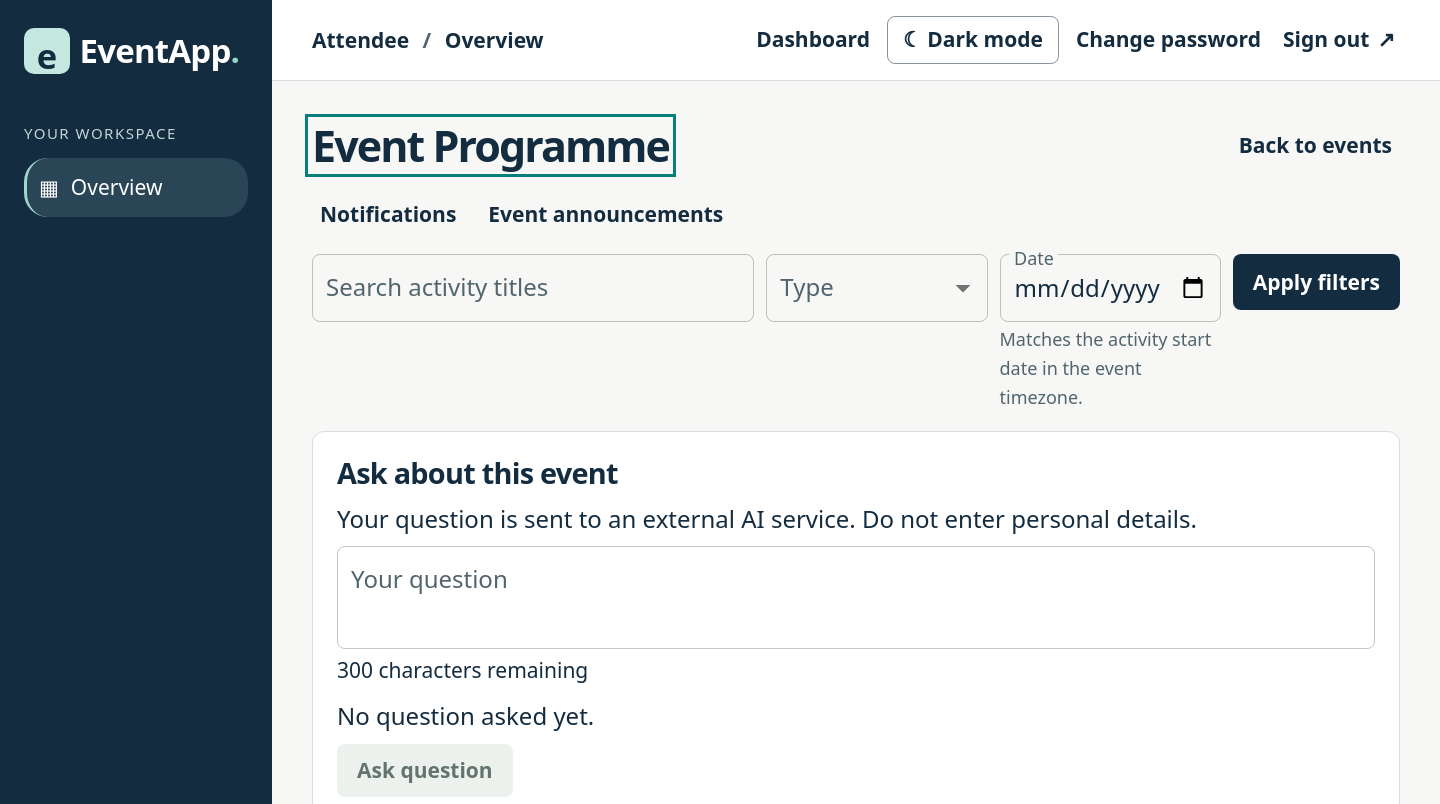
Scenario: F03-US02 attendee event question UI (AC01-AC06) › F03Q-UI09 an unknown result (conflicting_evidence) gives its reason, no facts, no summary and a way to browse
Check: the heading "Event Programme" is shown, box x1=312 y1=121 x2=669 y2=170
Click the text box labelled "Your question".
click(856, 598)  # box x1=351 y1=563 x2=1361 y2=633
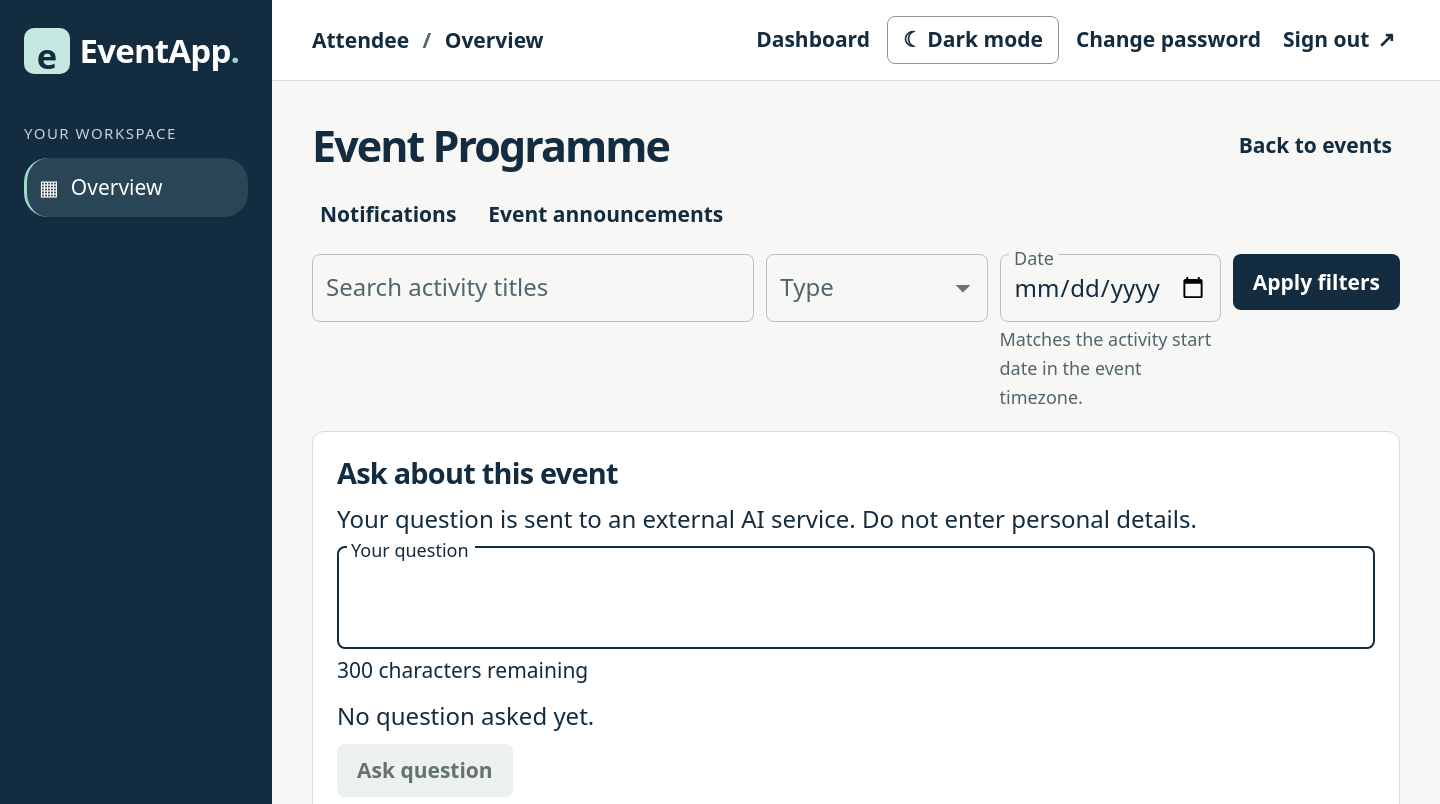
Type keys "When does the evening workshop start and what does it cost?"
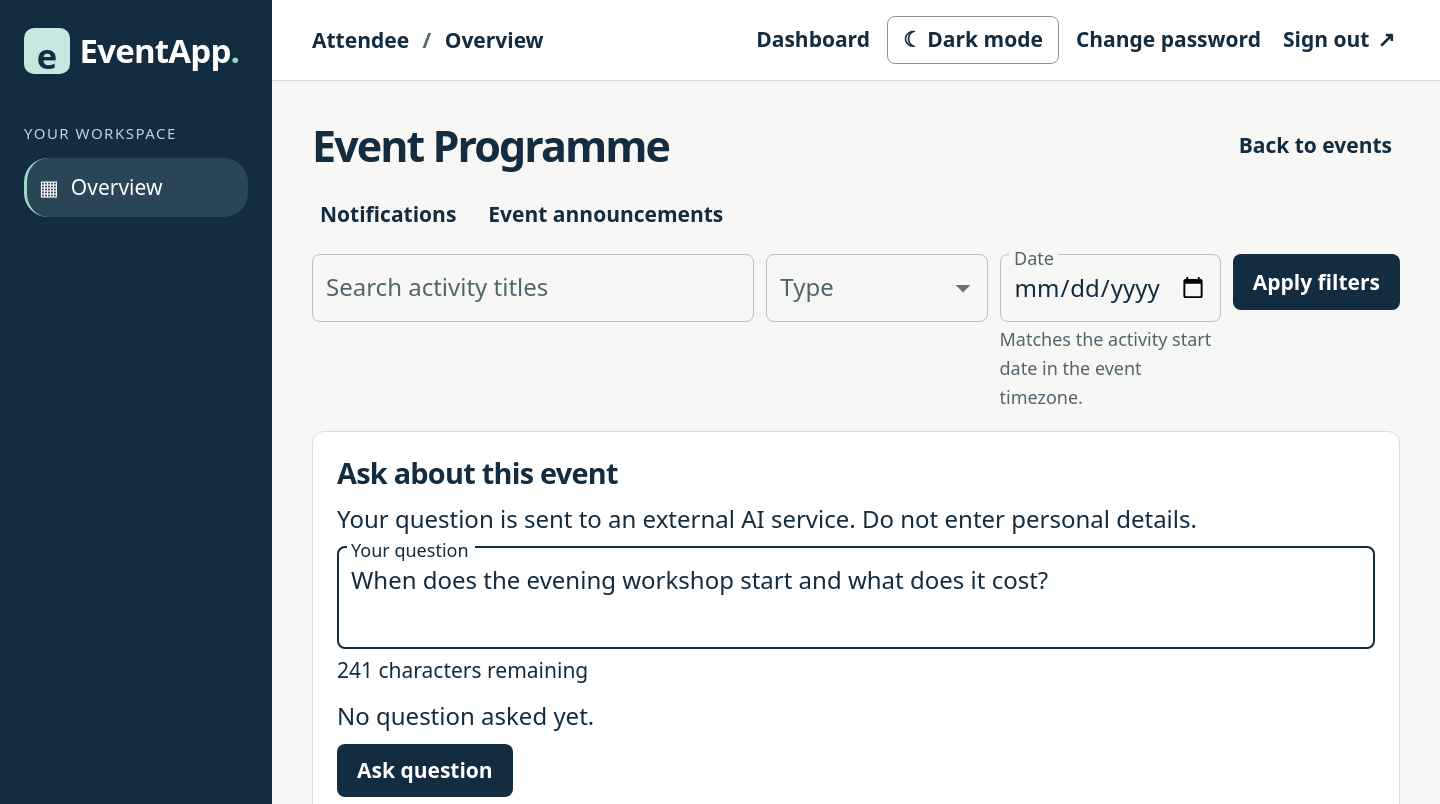
Click the button "Ask question".
click(425, 770)  # box x1=337 y1=744 x2=513 y2=797
(page scrolled)
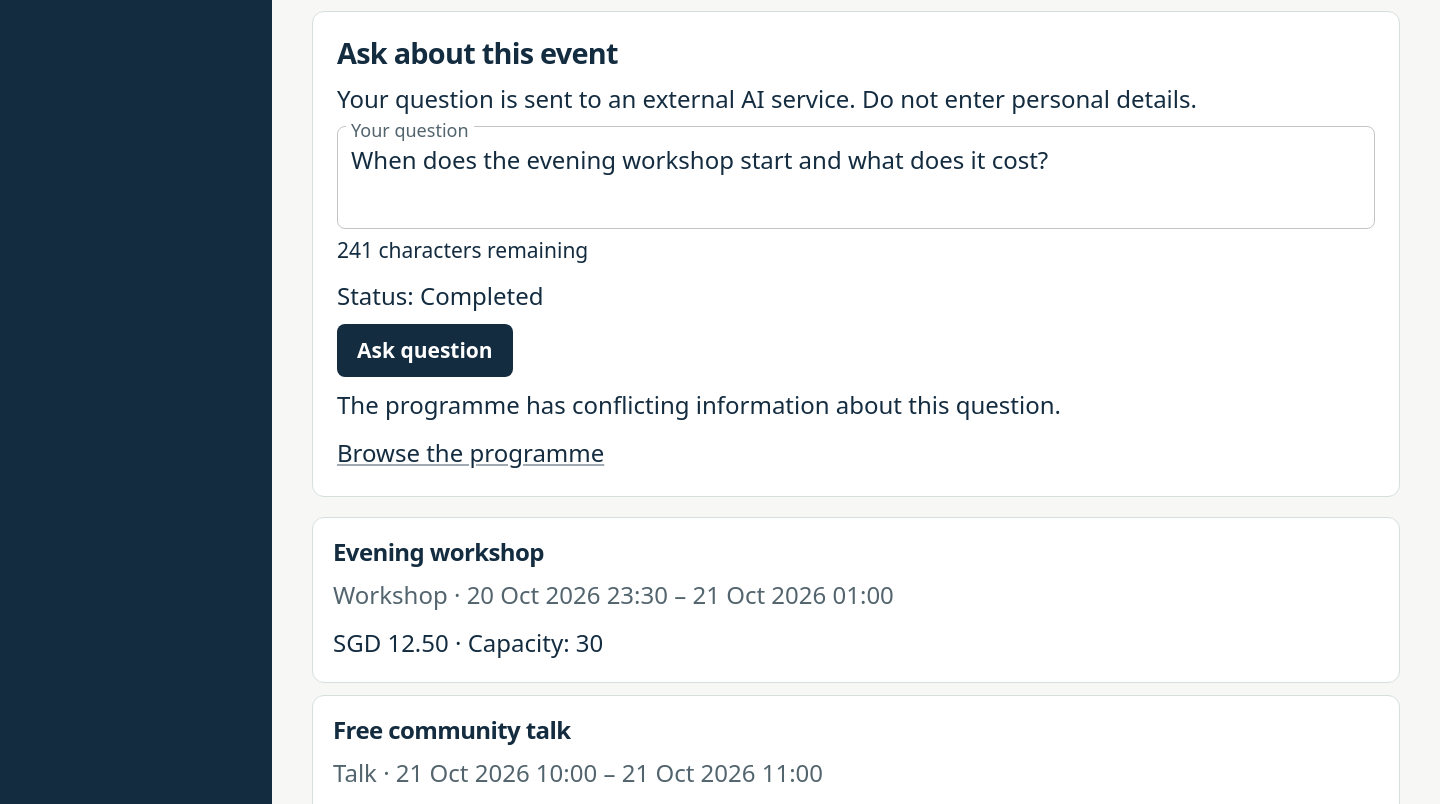
Check: the message named "Question status" shows "Completed", box x1=337 y1=279 x2=544 y2=312
Check: the text "The programme has conflicting information about this question." is shown, box x1=337 y1=388 x2=1061 y2=421
